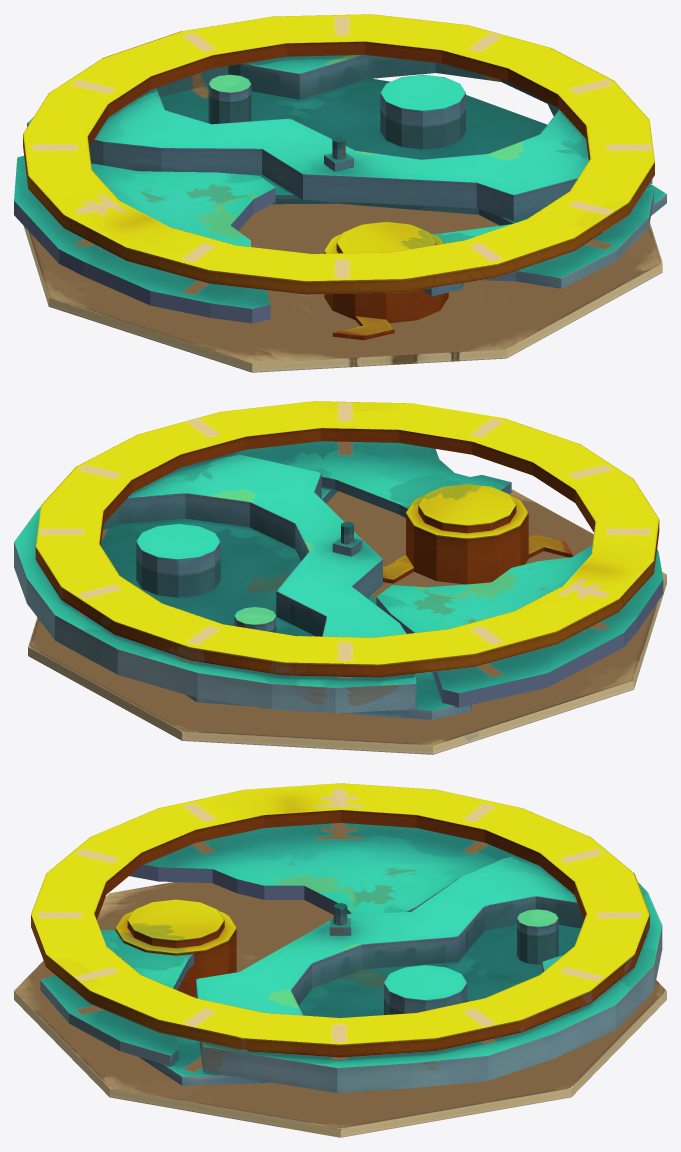
The model's file is reloj_maquinaria_estatic.fbx.
3 renders of one model, top to bottom at view 1: azimuth 30°, elevation 25°; view 2: azimuth 150°, elevation 25°; view 3: azimuth 270°, elevation 25°, orthographic. The views are drawn at different scales.
Parts seen in each view (by area): view 1: pCylinder7, pPlane1, pPlane3, pPlane2, pPlane5, pCylinder4, pCylinder5, pPlane4, pCylinder6, pCube14; view 2: pCylinder7, pPlane3, pPlane1, pPlane2, pCylinder4, pPlane5, pPlane4, pCylinder5, pCylinder6, pCube14; view 3: pCylinder7, pPlane3, pPlane1, pPlane2, pPlane5, pCylinder4, pPlane4, pCylinder5, pCylinder6, pCube14.
Part boxes in pixels (x1,y1,x2,y2): pCylinder7: (23,14,654,294); pPlane1: (23,203,662,372); pPlane3: (27,55,652,220); pPlane2: (14,156,275,323); pPlane5: (160,78,666,225); pCylinder4: (324,221,448,340); pCylinder5: (380,74,465,149); pPlane4: (423,190,653,296); pCylinder6: (208,74,251,124); pCube14: (324,136,353,171); pCylinder7: (35,401,659,677); pPlane3: (14,453,416,713); pPlane1: (28,489,666,754); pPlane2: (376,545,663,707); pCylinder4: (383,484,573,584); pPlane5: (101,487,471,719); pPlane4: (234,441,511,517); pCylinder5: (136,524,220,597); pCylinder6: (234,607,276,632); pCube14: (332,522,362,556); pCylinder7: (31,783,649,1057); pPlane3: (196,855,662,1092); pPlane1: (14,882,666,1137); pPlane2: (129,823,515,914); pPlane5: (138,925,580,1085); pCylinder4: (115,899,236,996); pPlane4: (40,930,194,1065); pCylinder5: (384,965,467,1014); pCylinder6: (517,909,558,964); pCube14: (330,903,350,935).
Bounding box in the file's own units: 1750 × 362 × 1750.
